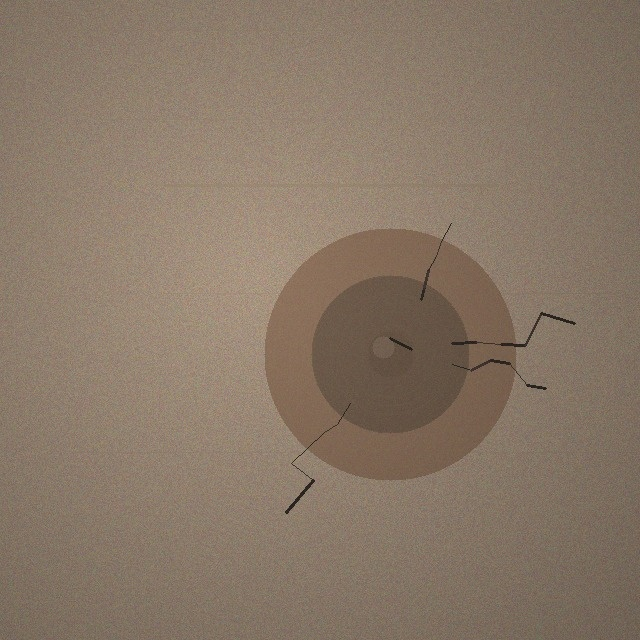crack: (264, 228, 516, 480)
